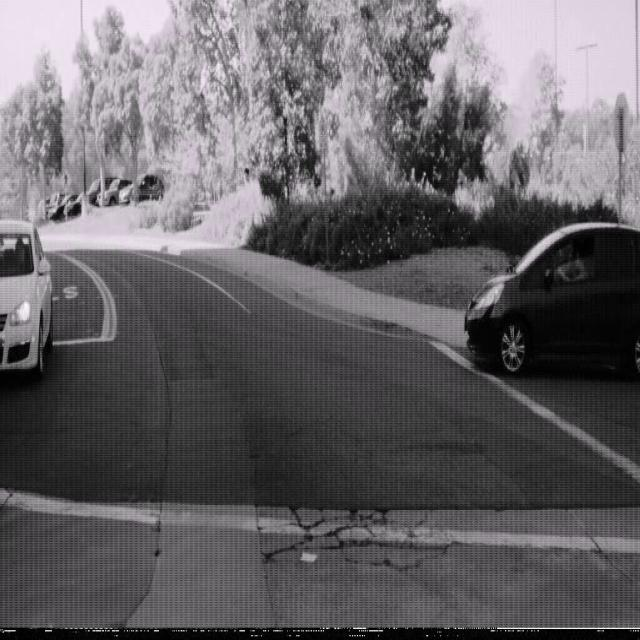pedestrianCrossing: (58, 164, 74, 195)
